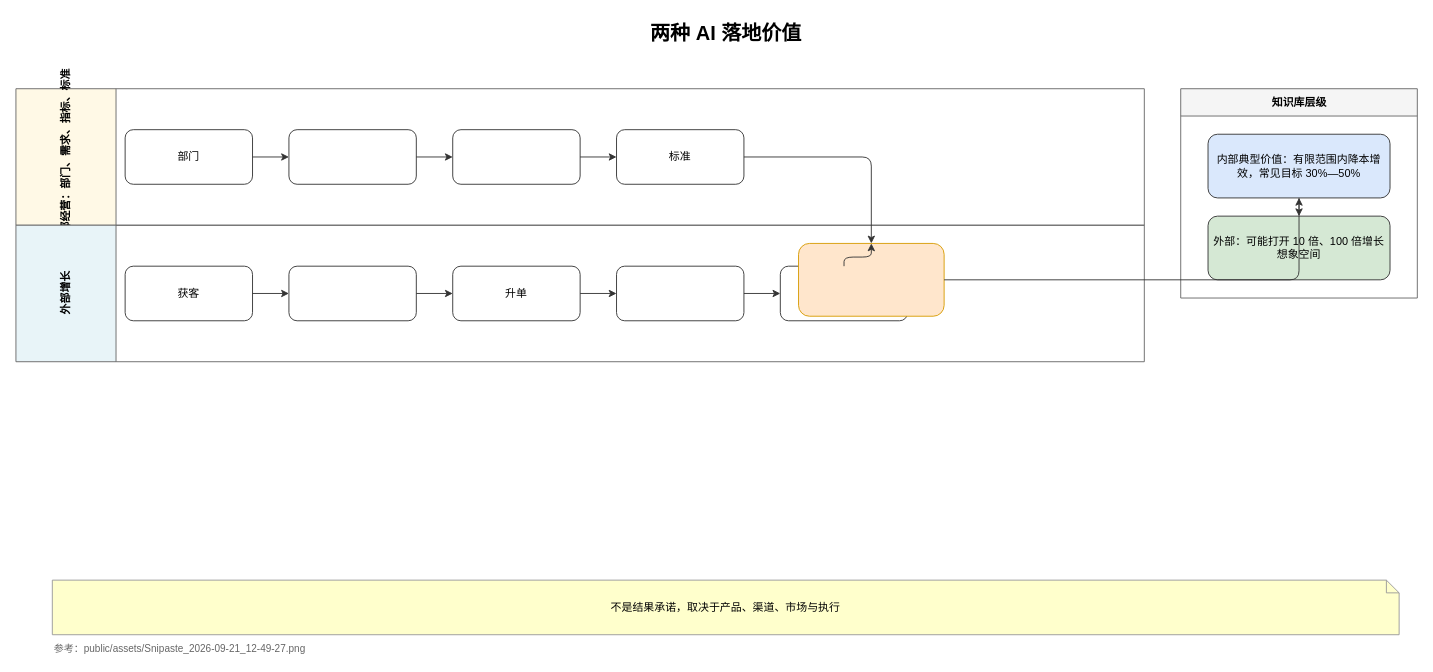
This 1433x672 diagram has some shape labels left out. Each missing label, with the centre of its shape:
优化（内部）· 增长漏斗（外部）: point (871, 279)
复购: point (680, 293)
指标: point (516, 156)
销转: point (352, 293)
需求: point (352, 156)
